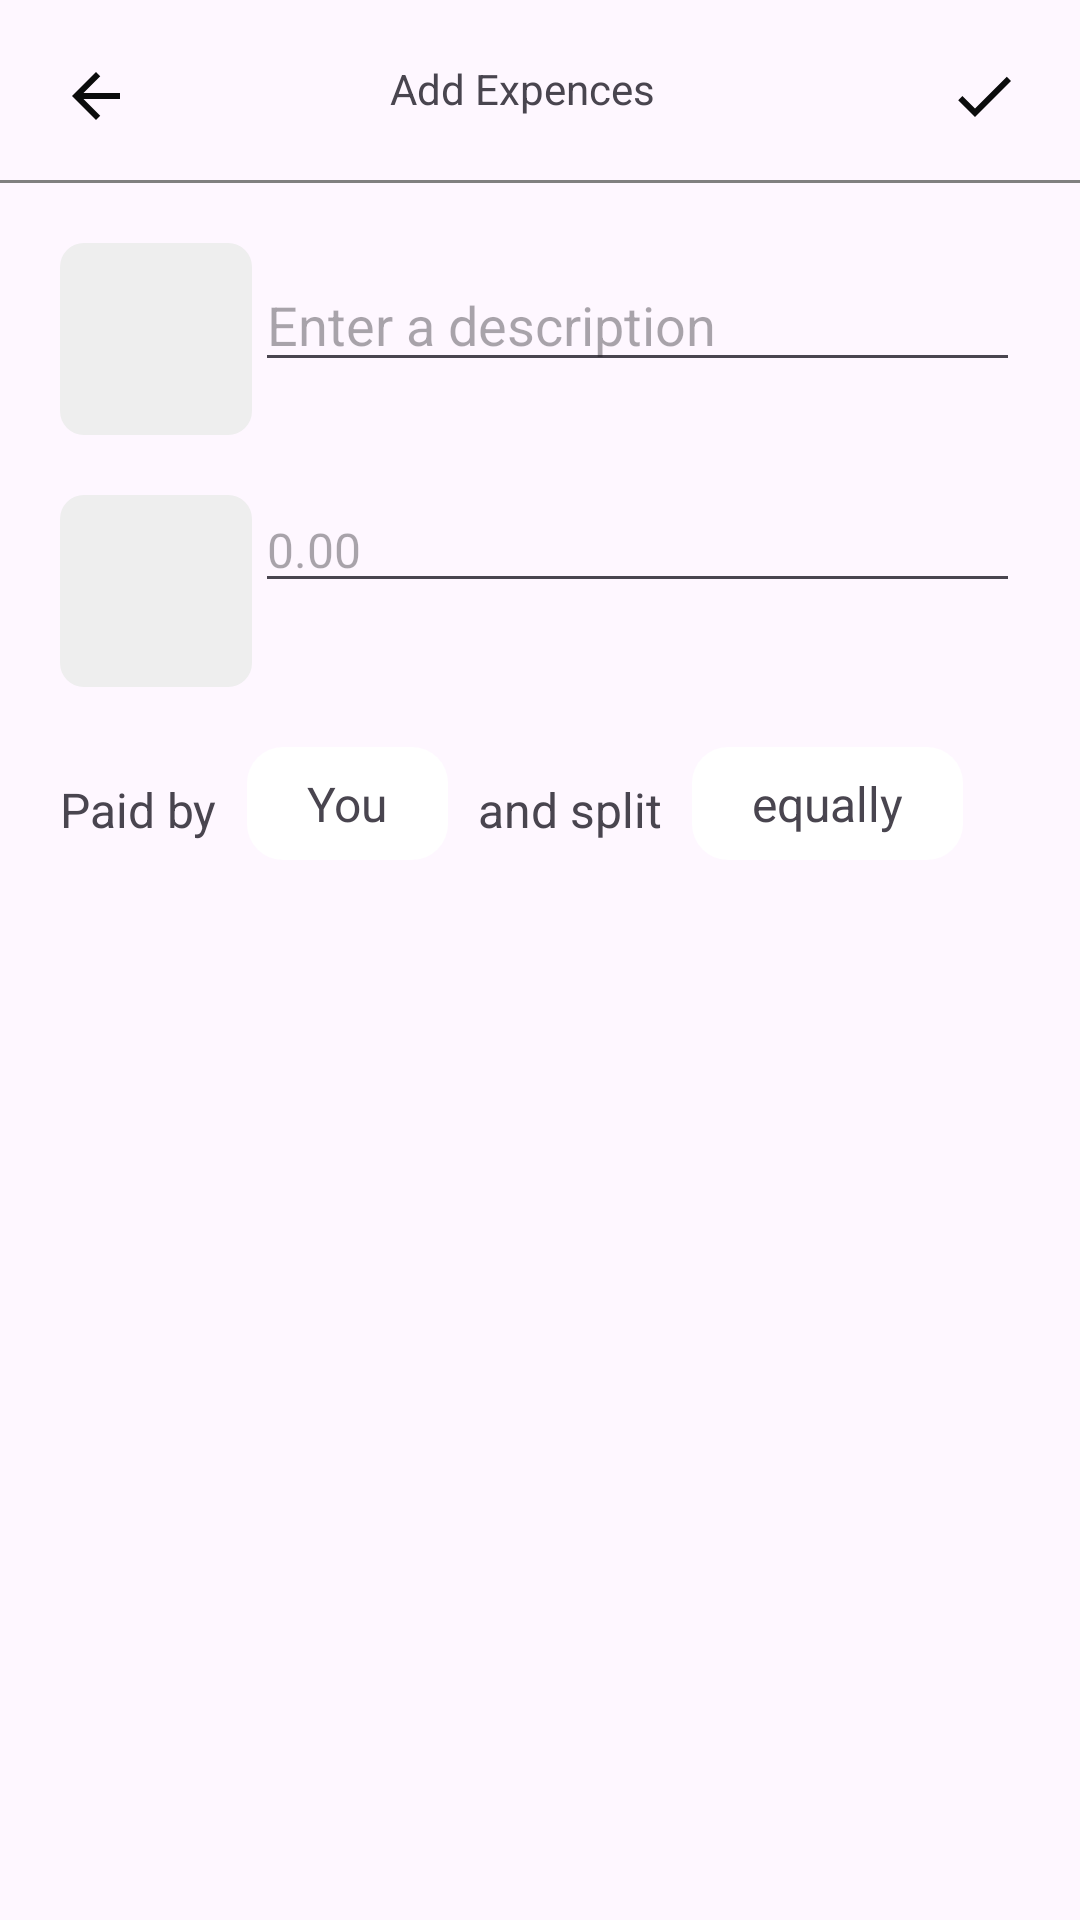

Where icons sit on this 1080px×1920px app screen, as bbox=(x1, y1, x2, y2):
arrow back: bbox=(72, 72, 120, 120)
done: bbox=(958, 77, 1011, 117)
